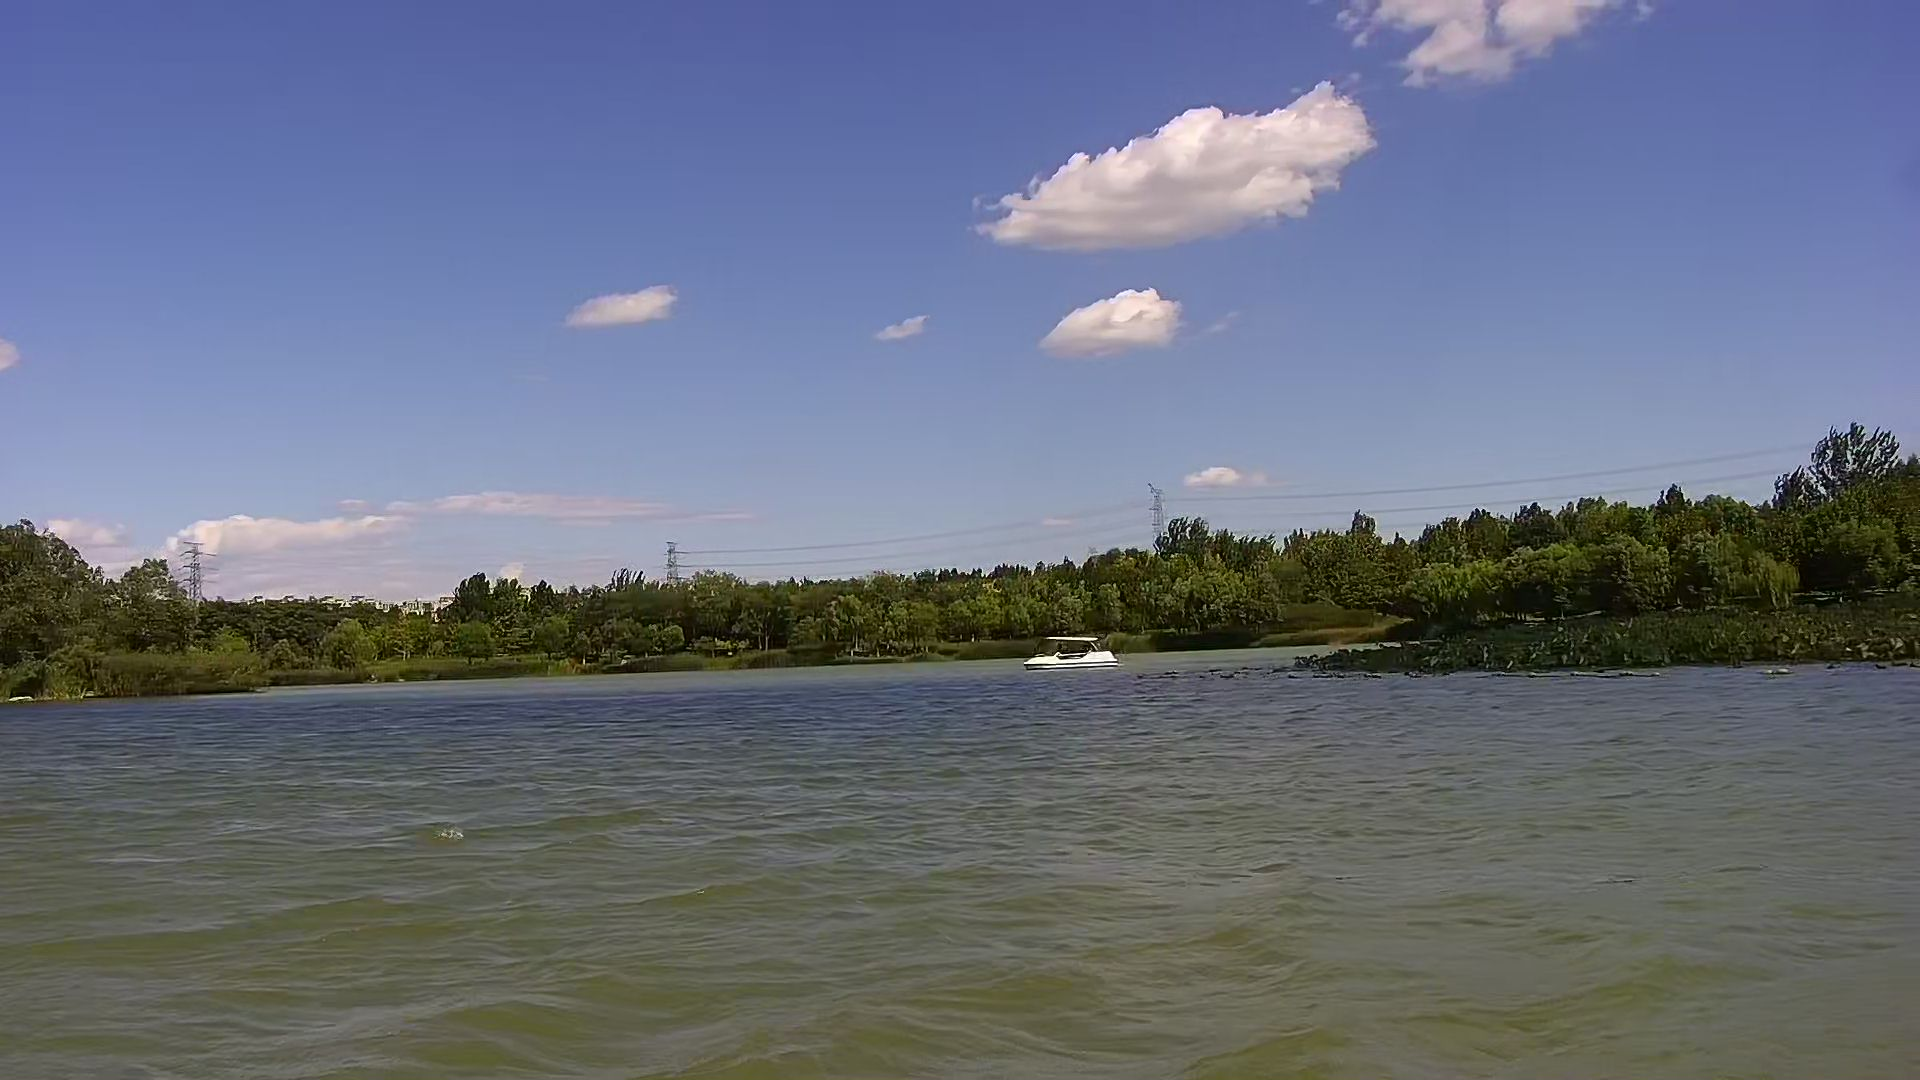boat: (1015, 632, 1127, 674)
